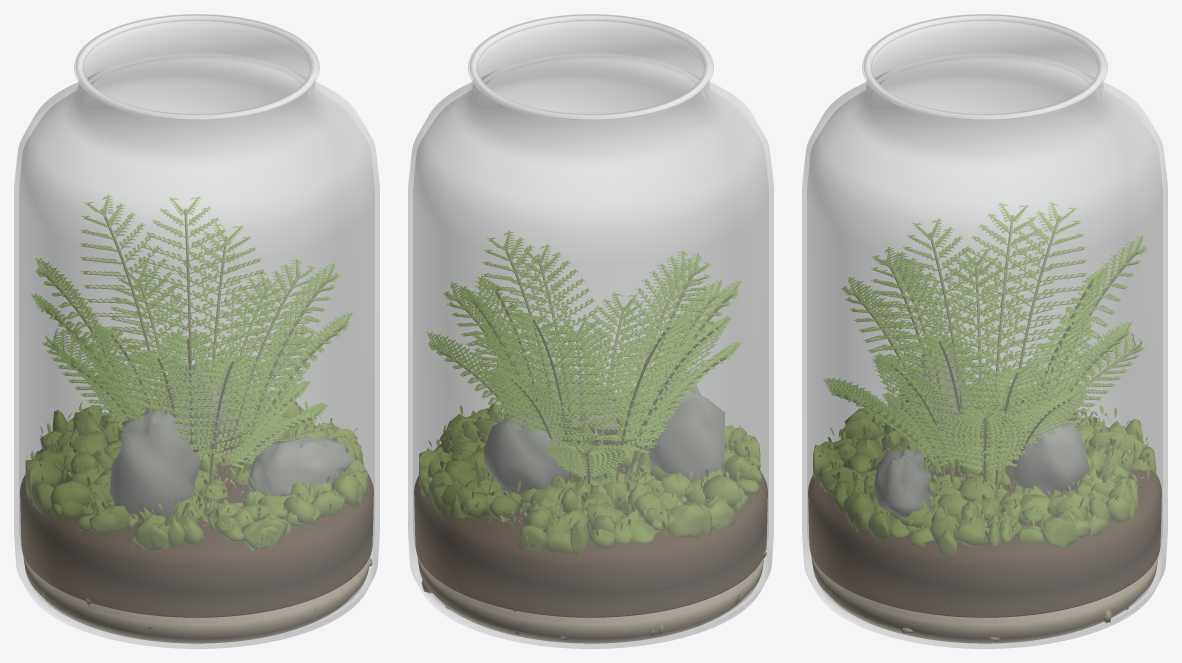
Rendered from hero-terrarium-3d.glb.
The picture shows the model from 3 angles, left to right: view 1: azimuth 30°, elevation 25°; view 2: azimuth 150°, elevation 25°; view 3: azimuth 270°, elevation 25°; orthographic projection.
Visible parts, largest first — view 1: Open glass vessel, Fern leaflets (×2), Soil bed, Moss cushions, Landscape stones, Gravel bed, Fern pinnae, Rounded glass lip, Arching fern stems; view 2: Open glass vessel, Fern leaflets (×2), Soil bed, Moss cushions, Landscape stones, Gravel bed, Fern pinnae, Rounded glass lip, Arching fern stems; view 3: Open glass vessel, Fern leaflets (×2), Soil bed, Moss cushions, Gravel bed, Landscape stones, Fern pinnae, Arching fern stems, Rounded glass lip.
Boxes of the visible parts, box(x1,y1,x2,y2) form: Open glass vessel: box(14, 15, 379, 648); Fern leaflets (×2): box(30, 194, 364, 537); Soil bed: box(20, 409, 373, 617); Moss cushions: box(25, 391, 368, 551); Landscape stones: box(109, 365, 354, 518); Gravel bed: box(23, 554, 370, 643); Fern pinnae: box(37, 200, 346, 465); Rounded glass lip: box(74, 14, 319, 120); Arching fern stems: box(43, 208, 342, 485); Open glass vessel: box(408, 15, 773, 648); Fern leaflets (×2): box(426, 230, 757, 535); Soil bed: box(414, 414, 767, 617); Moss cushions: box(419, 386, 762, 554); Landscape stones: box(483, 373, 724, 494); Gravel bed: box(417, 555, 764, 643); Fern pinnae: box(431, 238, 735, 476); Rounded glass lip: box(468, 14, 713, 120); Arching fern stems: box(436, 245, 731, 484); Open glass vessel: box(802, 15, 1167, 648); Fern leaflets (×2): box(819, 202, 1150, 536); Soil bed: box(808, 418, 1161, 617); Moss cushions: box(813, 383, 1156, 554); Gravel bed: box(811, 554, 1158, 643); Landscape stones: box(874, 344, 1089, 517); Fern pinnae: box(829, 207, 1143, 472); Arching fern stems: box(835, 215, 1137, 488); Rounded glass lip: box(862, 14, 1107, 120).
Size of the model in its own units: 0.2828 by 0.44 by 0.2828.
